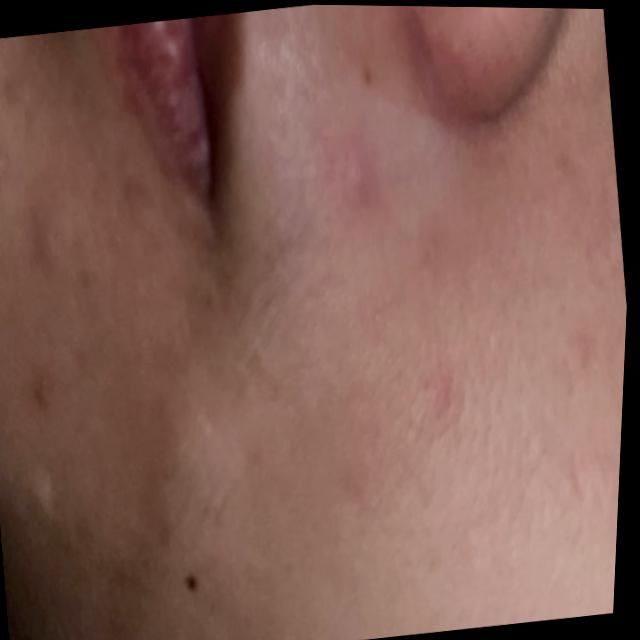papule: (314, 98, 395, 230)
pustule: (0, 141, 29, 191)
